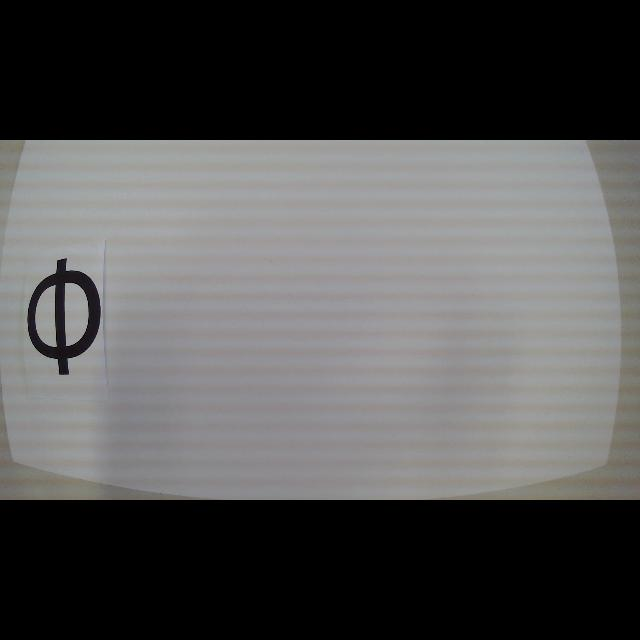PHI: (28, 258, 102, 376)
